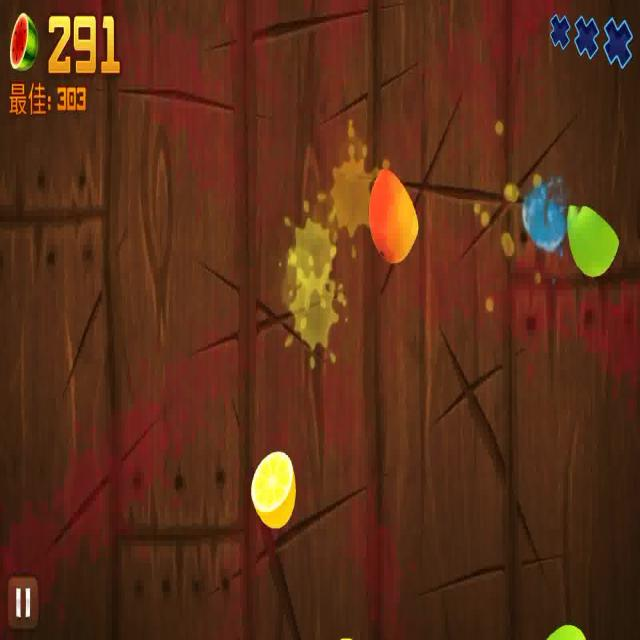fruit: (369, 164, 417, 261), (564, 201, 620, 277), (250, 448, 297, 528)
